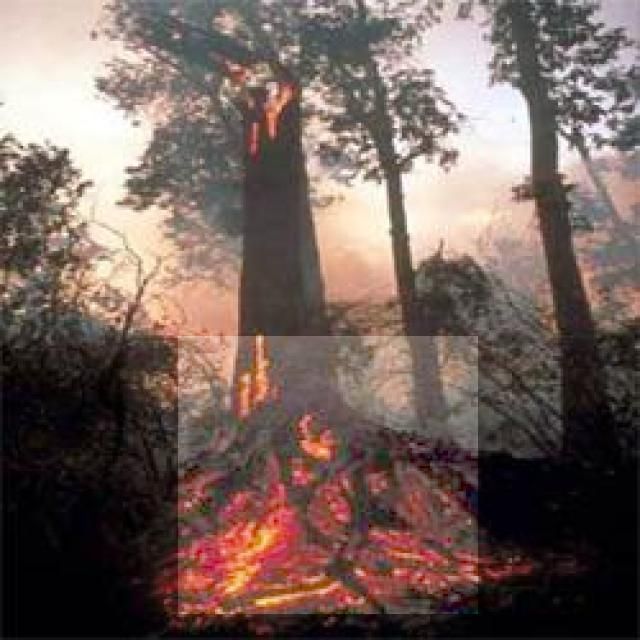Fire: (178, 336, 478, 614)
